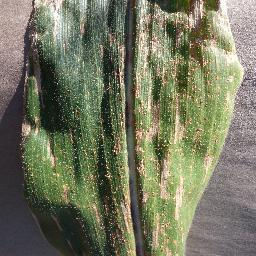Gray_Leaf_Spot: (138, 0, 249, 255), (15, 0, 52, 141), (92, 145, 137, 256), (98, 25, 137, 79), (110, 79, 140, 143), (49, 213, 74, 256), (75, 215, 91, 256), (52, 0, 68, 35), (28, 203, 42, 241), (43, 139, 59, 168), (15, 142, 26, 180), (79, 13, 92, 40), (62, 181, 73, 207), (97, 116, 107, 141), (69, 123, 78, 145)
